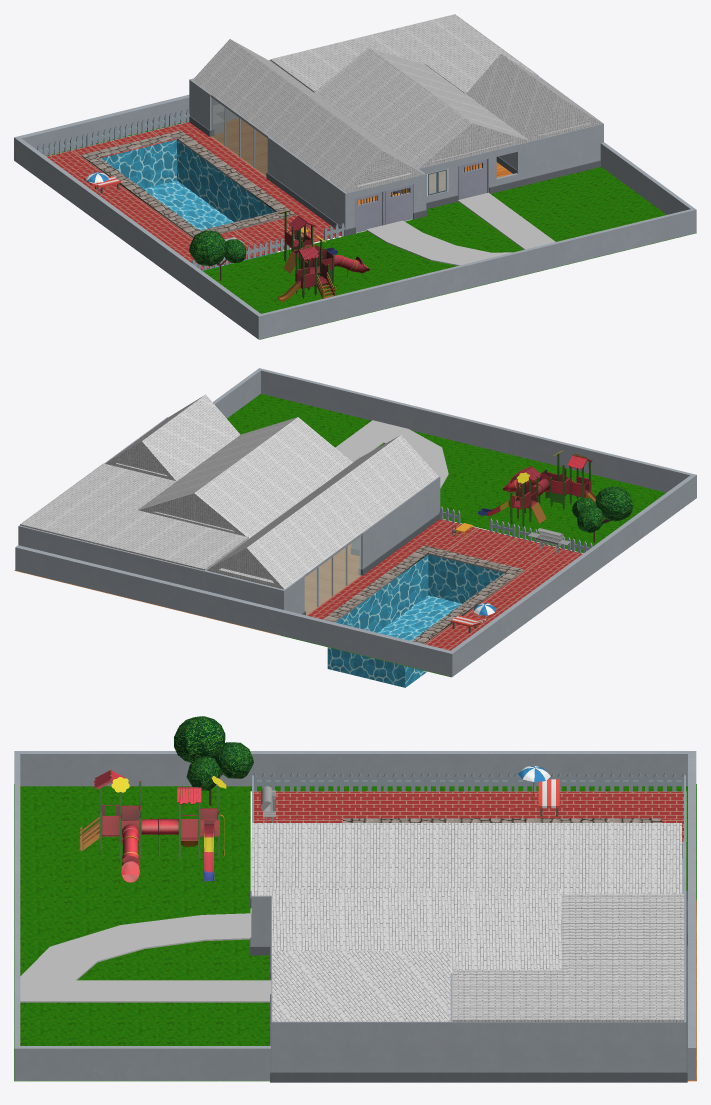
Rendered from map_fire.fbx.
3 renders of one model, top to bottom at view 1: azimuth 30°, elevation 25°; view 2: azimuth 150°, elevation 25°; view 3: azimuth 270°, elevation 25°, orthographic. The views are drawn at different scales.
Parts seen in each view (by area): view 1: rooftop, pCube89, BG_grass, polySurface1241, wall, pPlane4, polySurface1242, slide_outside, hang_rao, wall2, Bg_wood, pSphere3 (+8 smaller); view 2: rooftop, pCube89, polySurface1241, BG_grass, wall, slide_outside, polySurface1242, pPlane4, Bg_wood, pSphere3, hang_rao, wall2 (+4 smaller); view 3: rooftop, BG_grass, pCube89, wall, pPlane4, polySurface1241, slide_outside, wall2, hang_rao, pSphere3, polySurface1242, ghe_outdoor.
Part boxes in pixels (bbox=[...]): rooftop: bbox=[192, 14, 602, 193]; pCube89: bbox=[14, 94, 696, 339]; BG_grass: bbox=[46, 121, 696, 339]; polySurface1241: bbox=[46, 122, 341, 270]; wall: bbox=[189, 60, 603, 229]; pPlane4: bbox=[366, 192, 555, 265]; polySurface1242: bbox=[81, 130, 295, 237]; slide_outside: bbox=[277, 210, 369, 302]; hang_rao: bbox=[37, 109, 344, 270]; wall2: bbox=[189, 116, 600, 236]; Bg_wood: bbox=[212, 118, 512, 204]; pSphere3: bbox=[189, 230, 246, 266]; rooftop: bbox=[20, 394, 438, 589]; pCube89: bbox=[15, 368, 696, 676]; polySurface1241: bbox=[306, 519, 582, 687]; BG_grass: bbox=[227, 394, 665, 677]; wall: bbox=[18, 417, 440, 613]; slide_outside: bbox=[478, 450, 595, 527]; polySurface1242: bbox=[322, 545, 524, 643]; pPlane4: bbox=[335, 420, 448, 488]; Bg_wood: bbox=[14, 544, 360, 635]; pSphere3: bbox=[572, 486, 633, 532]; hang_rao: bbox=[439, 506, 592, 553]; wall2: bbox=[301, 513, 439, 615]; rooftop: bbox=[251, 823, 683, 1021]; BG_grass: bbox=[14, 784, 696, 1081]; pCube89: bbox=[14, 751, 696, 1080]; wall: bbox=[251, 841, 686, 1072]; pPlane4: bbox=[20, 913, 271, 1002]; polySurface1241: bbox=[254, 791, 683, 841]; slide_outside: bbox=[79, 769, 226, 882]; wall2: bbox=[250, 891, 687, 1082]; hang_rao: bbox=[252, 773, 685, 841]; pSphere3: bbox=[174, 716, 253, 790]; polySurface1242: bbox=[343, 818, 661, 822]; ghe_outdoor: bbox=[538, 779, 559, 816].
Bounding box in the file's own units: 265 × 66.61 × 257.
